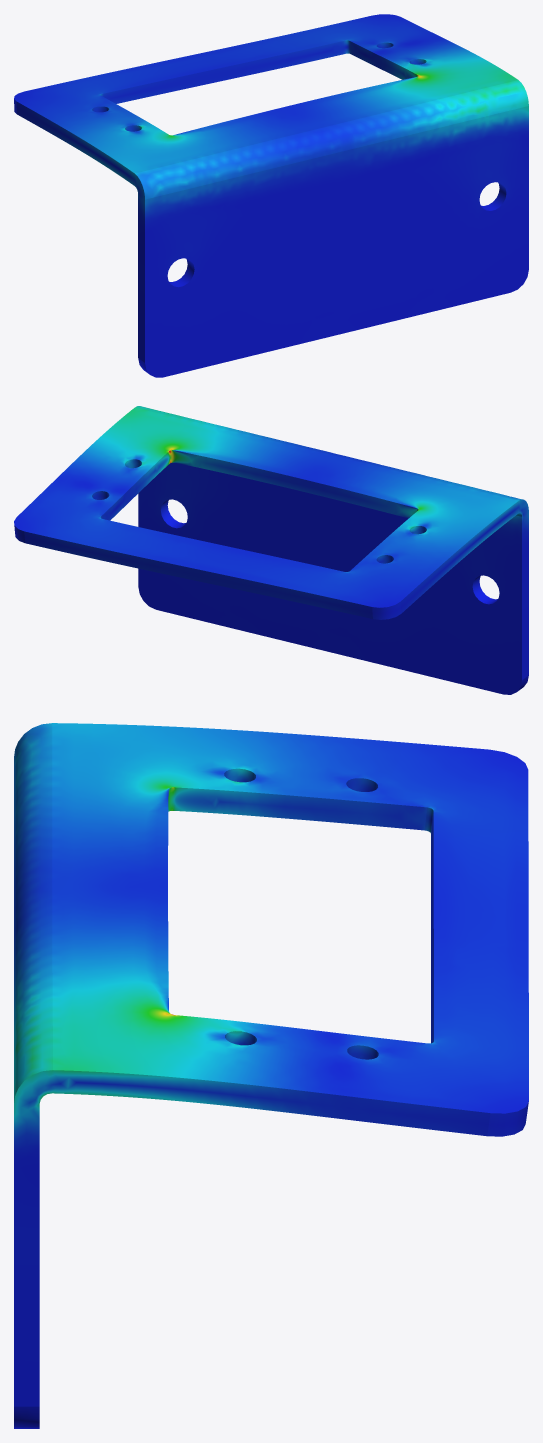
File: result.glb
3 views of the same model, one above another, from view 1: azimuth 30°, elevation 25°; view 2: azimuth 150°, elevation 25°; view 3: azimuth 270°, elevation 25° (orthographic). The views are drawn at different scales.
Visible parts, largest first — view 1: servo_bracket von Mises; view 2: servo_bracket von Mises; view 3: servo_bracket von Mises.
Boxes of the visible parts, <box> form: servo_bracket von Mises: <box>14,14,528,377</box>; servo_bracket von Mises: <box>14,406,528,694</box>; servo_bracket von Mises: <box>14,723,528,1428</box>.
Bounding box in the file's own units: 0.064 × 0.032 × 0.0402.
1 material, 1 textured.
